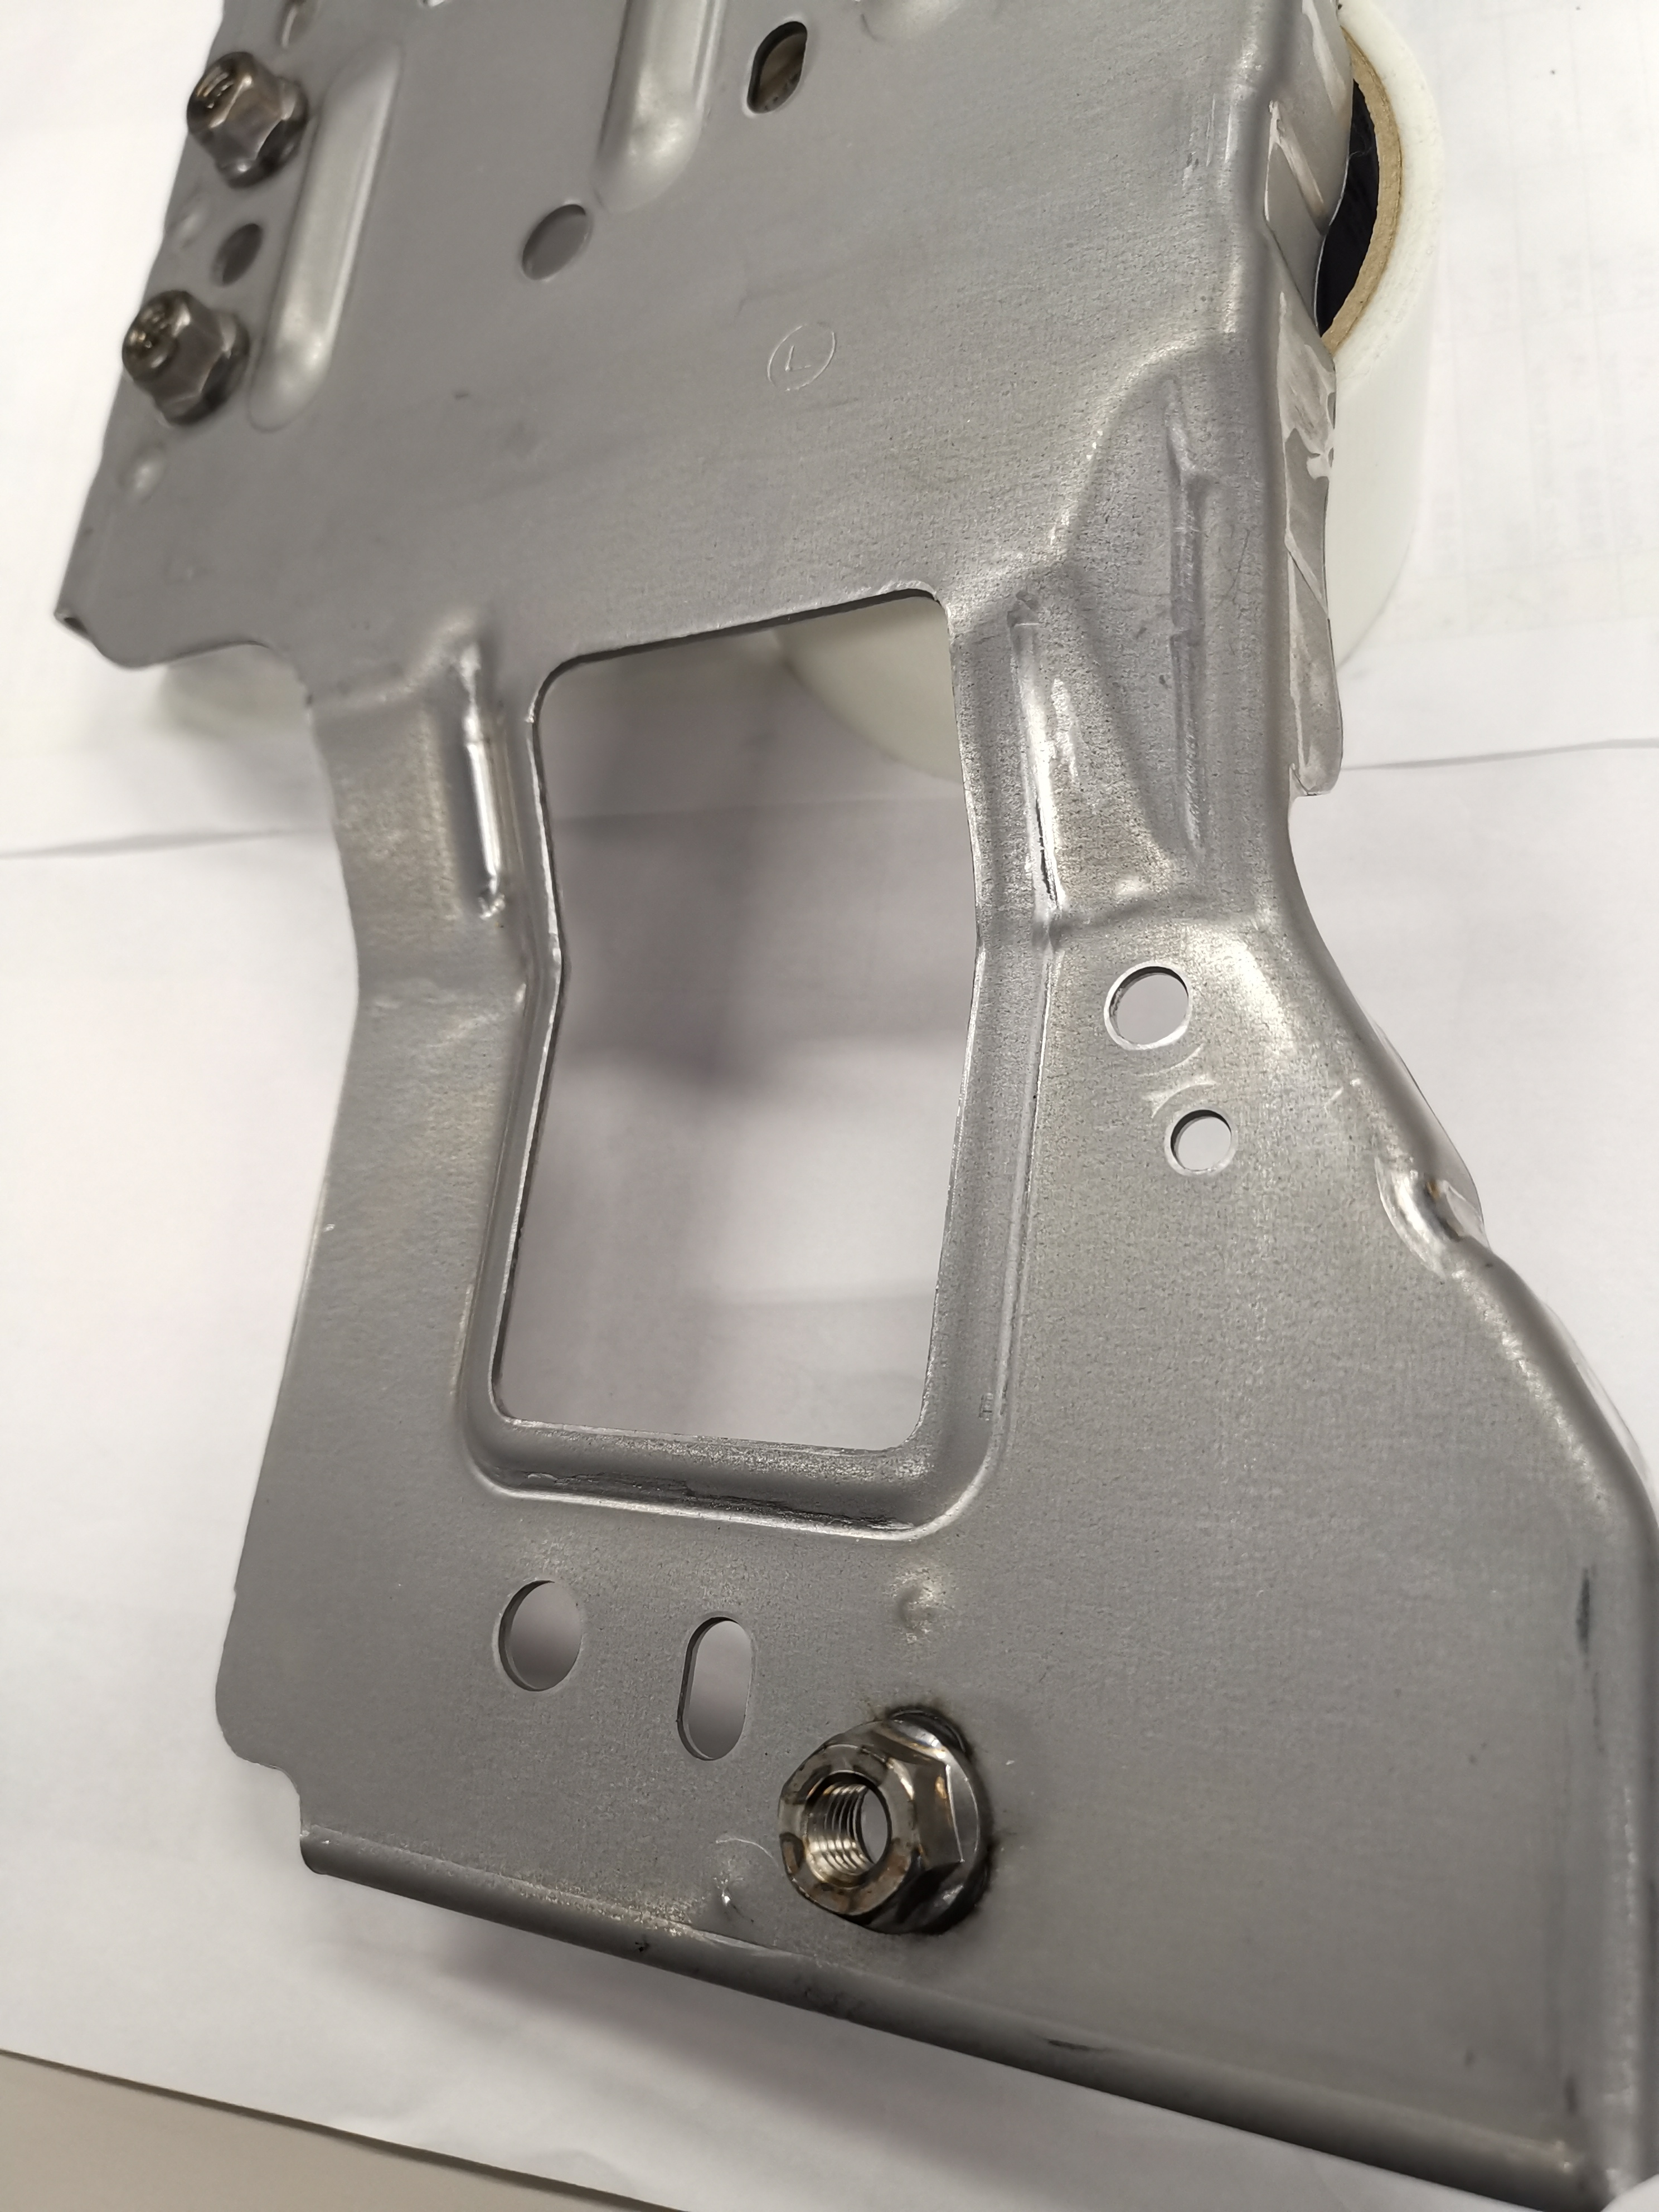dog: (765, 1705, 1004, 1942), (176, 44, 326, 193), (115, 286, 260, 432)
